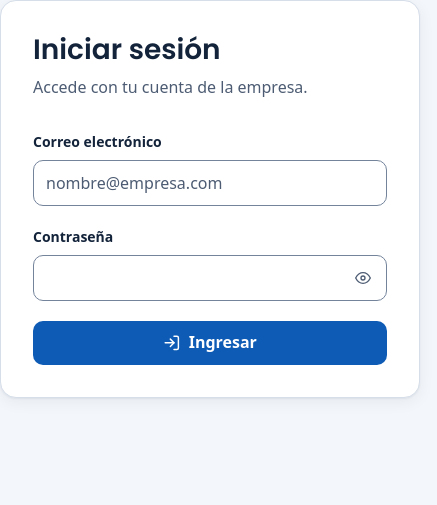
Test: shows a generic error and stays on the login page on failure
Step 1. Type "ana@example.com" into the field labelled "Correo electrónico" → (210, 183), box [33,160,387,206]
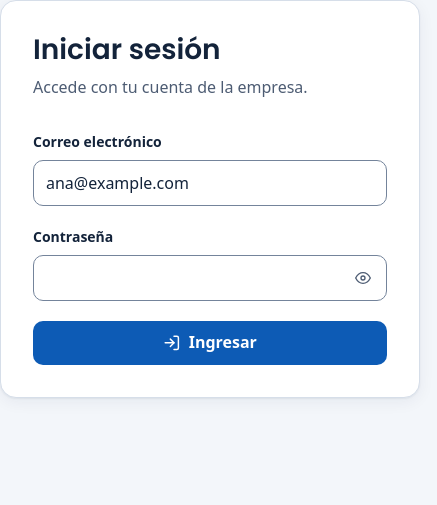
Step 2. Type "wrong-pass" into the password field labelled "Contraseña" → (210, 278), box [33,255,387,301]
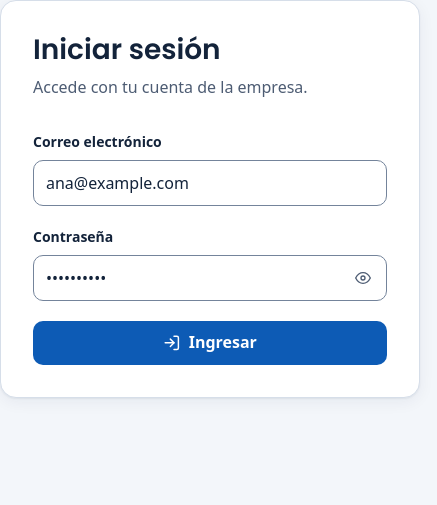
Step 3. Click the button "Ingresar" → (210, 343), box [33,321,387,365]
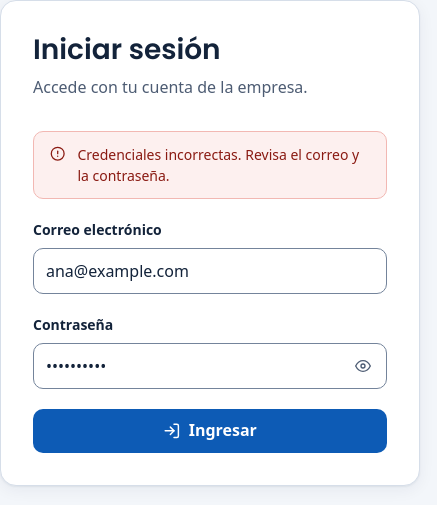
Expected: the text "Credenciales incorrectas. Revisa el correo y la contraseña." is shown, [77,144,370,186]
